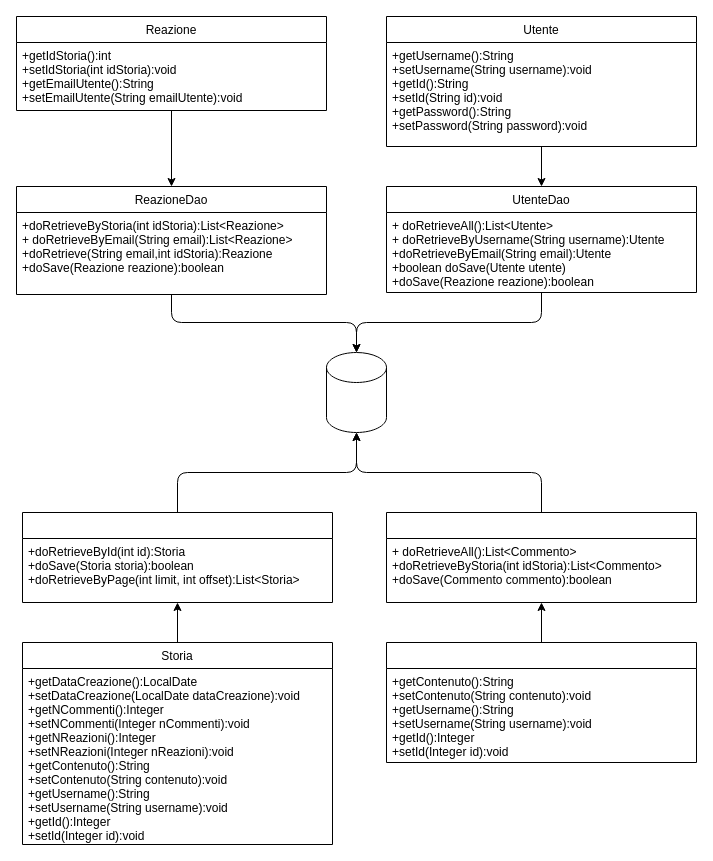
This 713x861 diagram has some shape labels left out. Here are the shapes that lost their labels. From the top down, the box of each, then its label:
(22, 512, 332, 602): StoriaDao
(386, 512, 696, 602): CommentoDao
(386, 642, 696, 762): Commento
